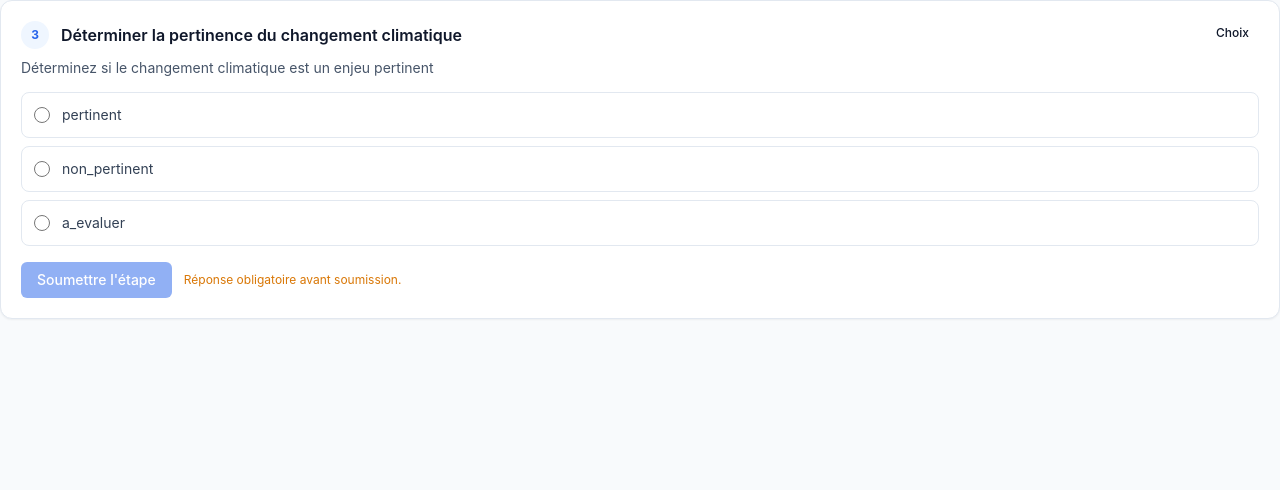
Test: WorkflowStep — choix avec garde-fou › repasser sur un autre choix retire l'exigence de justification
The width and height of the screenshot is (1280, 490).
Step 1. Click the radio button labelled "non_pertinent" → coordinates (42, 169), box [34,161,50,177]
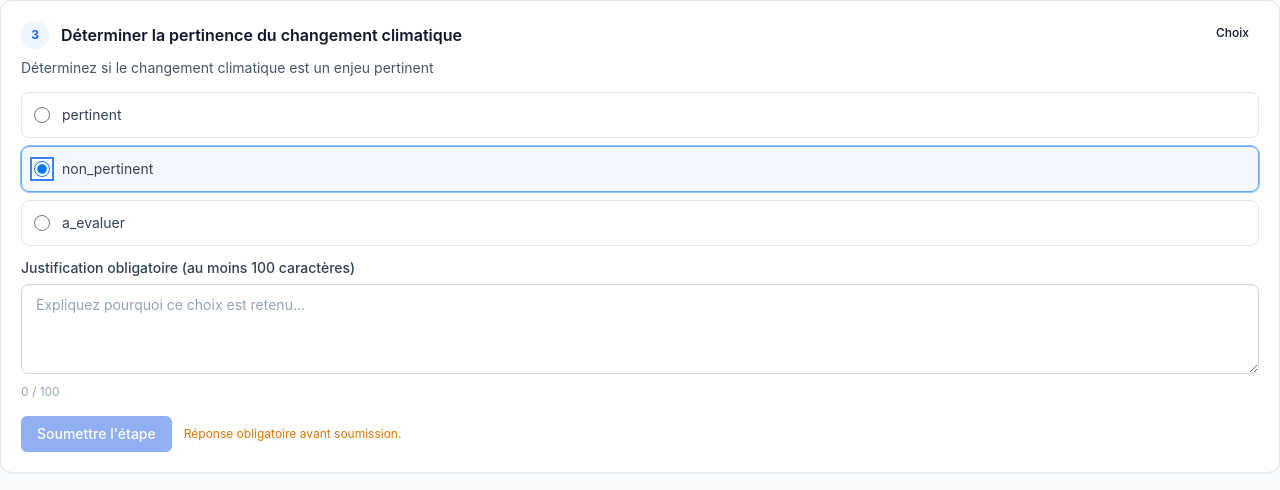
Step 2. Click the radio button labelled "a_evaluer" → coordinates (42, 223), box [34,215,50,231]
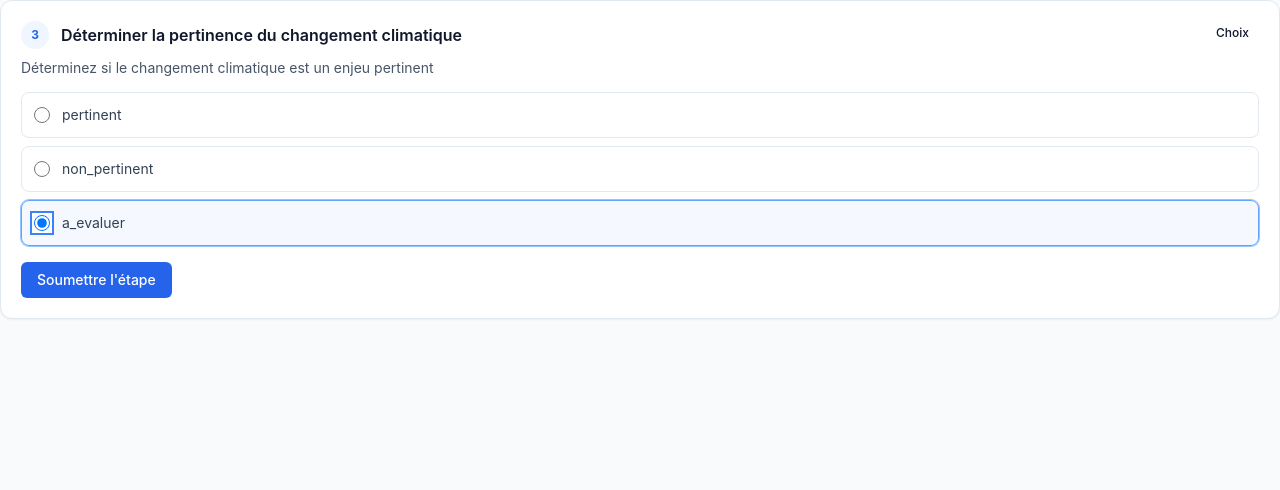
Result: the label labelled "Justification obligatoire" is gone
